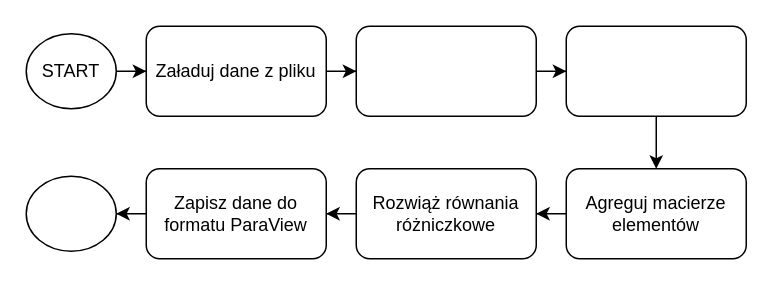
The diagram is 773 pixels wide and 285 high, and some of its shapes have lost their labels. Each missing label, with the box of its shape:
KONIEC: (25, 175, 116, 251)
Oblicz dane dla każdego elementu: (565, 25, 746, 116)
Oblicz dane uniwersalne: (355, 25, 536, 116)
